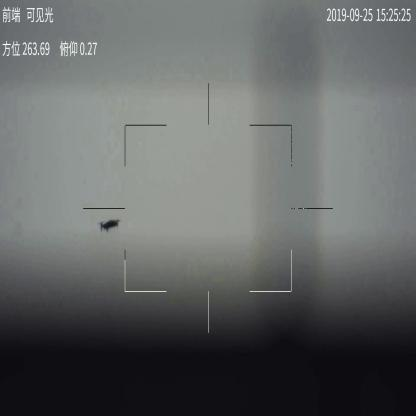uav: (99, 216, 119, 235)
